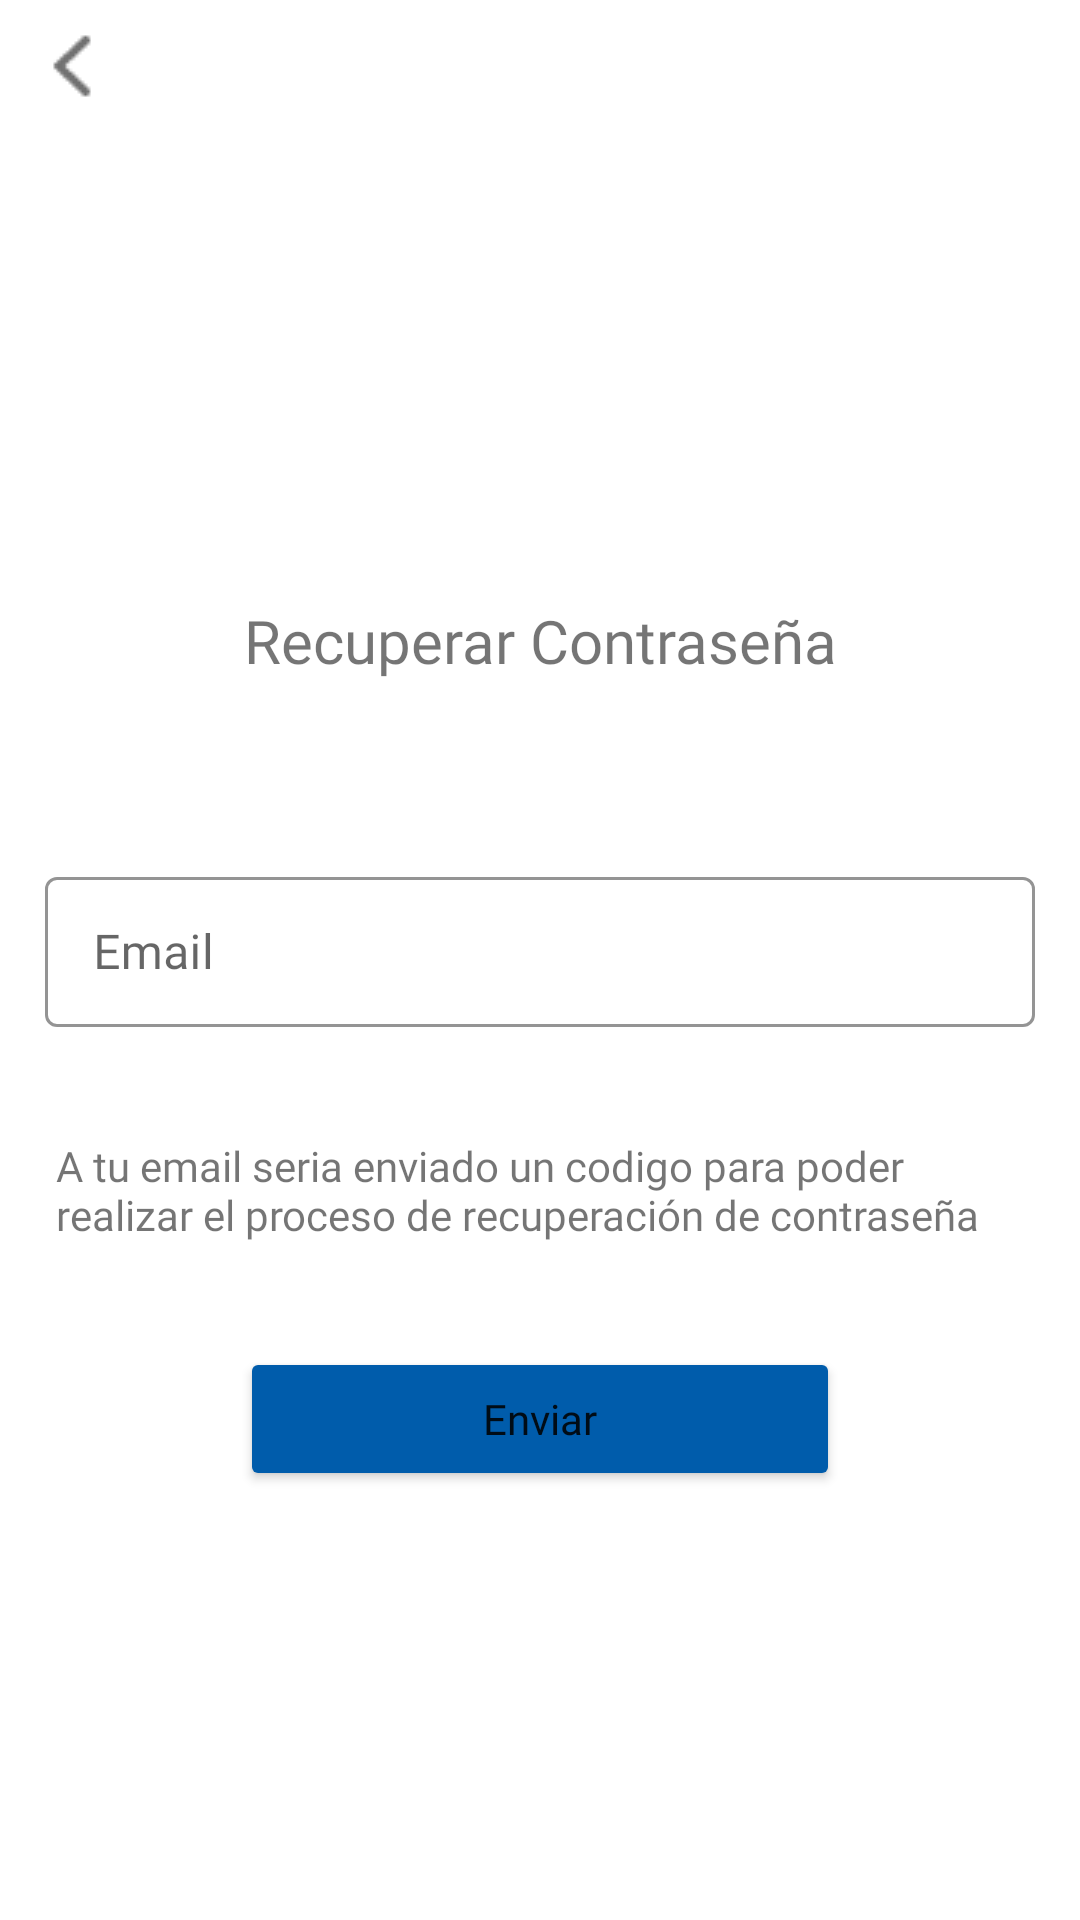

Screen size 1080px×1920px. Icon name, then its center in pixels as (x,y):
back: (72,66)
